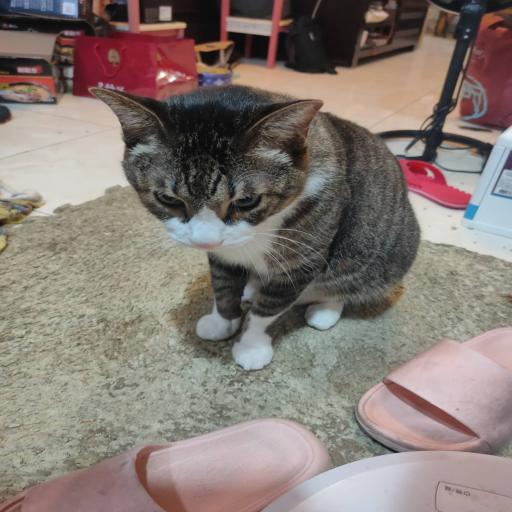cat: (135, 97, 413, 349)
